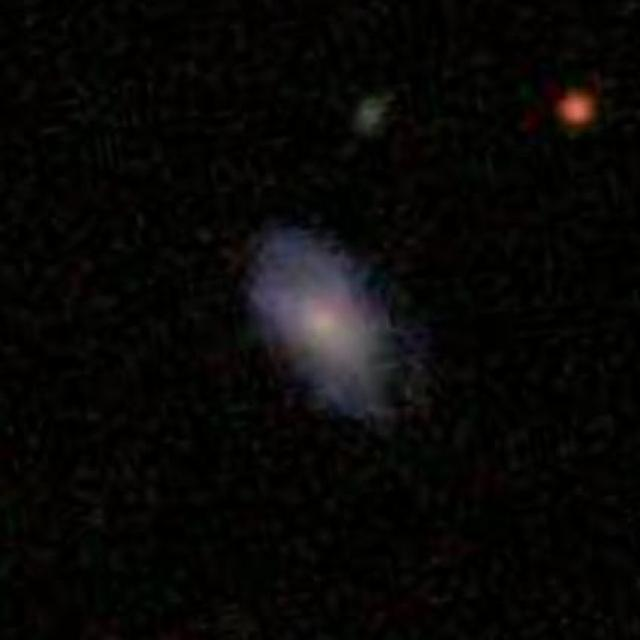galaxy: (238, 212, 436, 452), (350, 86, 409, 142), (555, 89, 607, 138)
